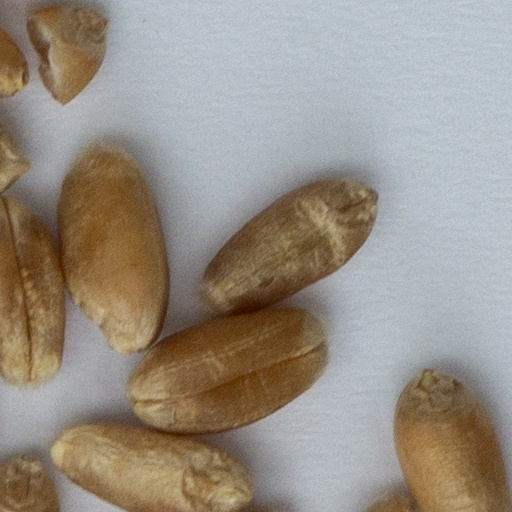Wheat-grain-damaged-poly: (29, 4, 105, 102)
